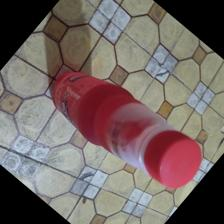Sting: (51, 68, 203, 191)
